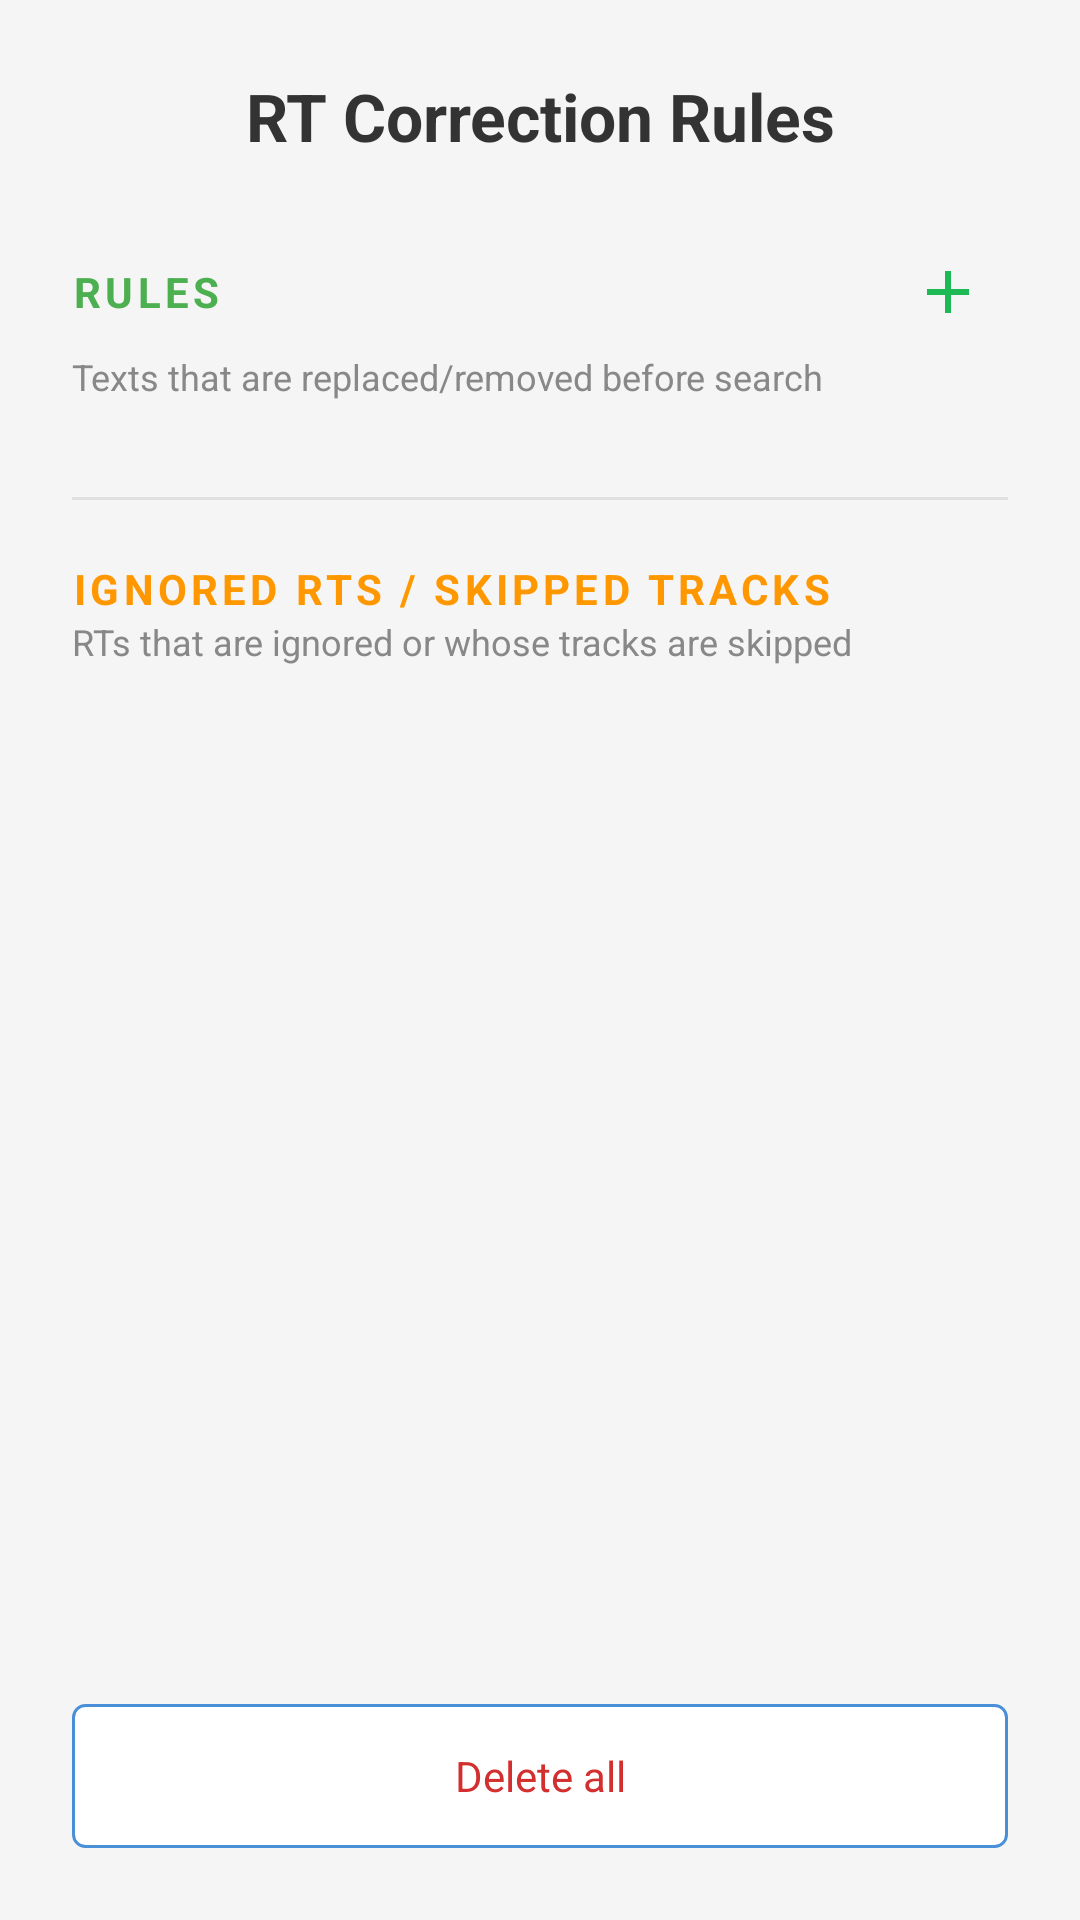

Icons on this 1080 × 1920 Android screen, each with its box as (x1, y1, x2, y2):
Add rule: (927, 271, 969, 313)
